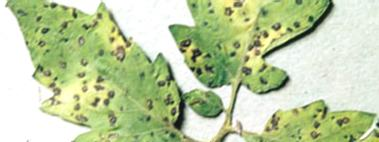Tomato leaf bacterial spot: (3, 0, 183, 142), (167, 0, 351, 98), (253, 96, 379, 142)
